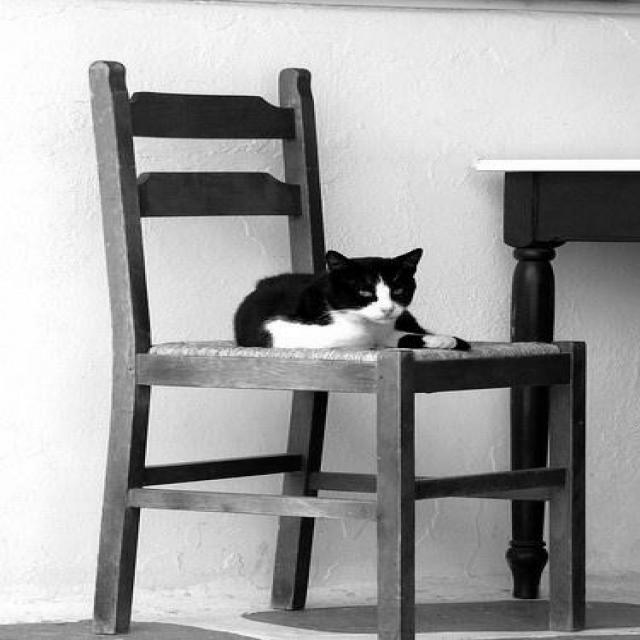chair: (86, 59, 591, 639)
